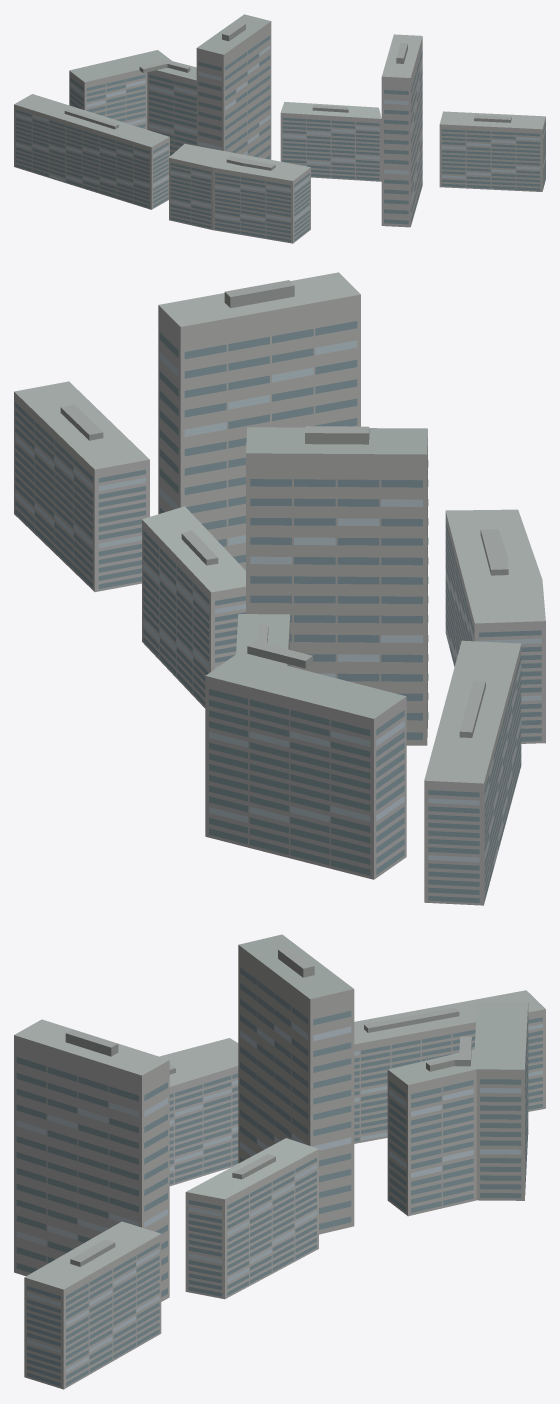
Rendered from apt-a10023855.glb.
3 renders of one model, top to bottom at view 1: azimuth 30°, elevation 25°; view 2: azimuth 150°, elevation 25°; view 3: azimuth 270°, elevation 25°, orthographic. The views are drawn at different scales.
Visible parts, largest first — view 1: apt-a10023855; view 2: apt-a10023855; view 3: apt-a10023855.
Part boxes in pixels (x1,y1,x2,y2): apt-a10023855: (14, 14, 545, 243); apt-a10023855: (14, 272, 545, 905); apt-a10023855: (14, 934, 545, 1389).
Size of the model in its own units: 171 by 65.51 by 128.
